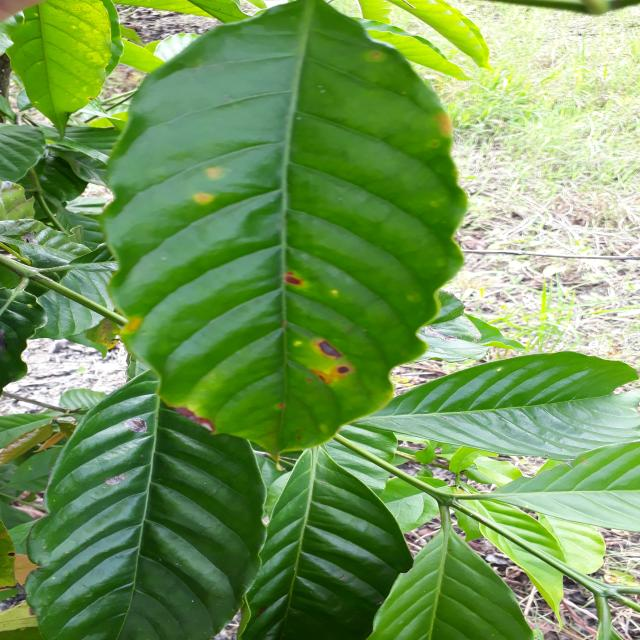Enfermedad-Roya: (100, 0, 469, 458)
